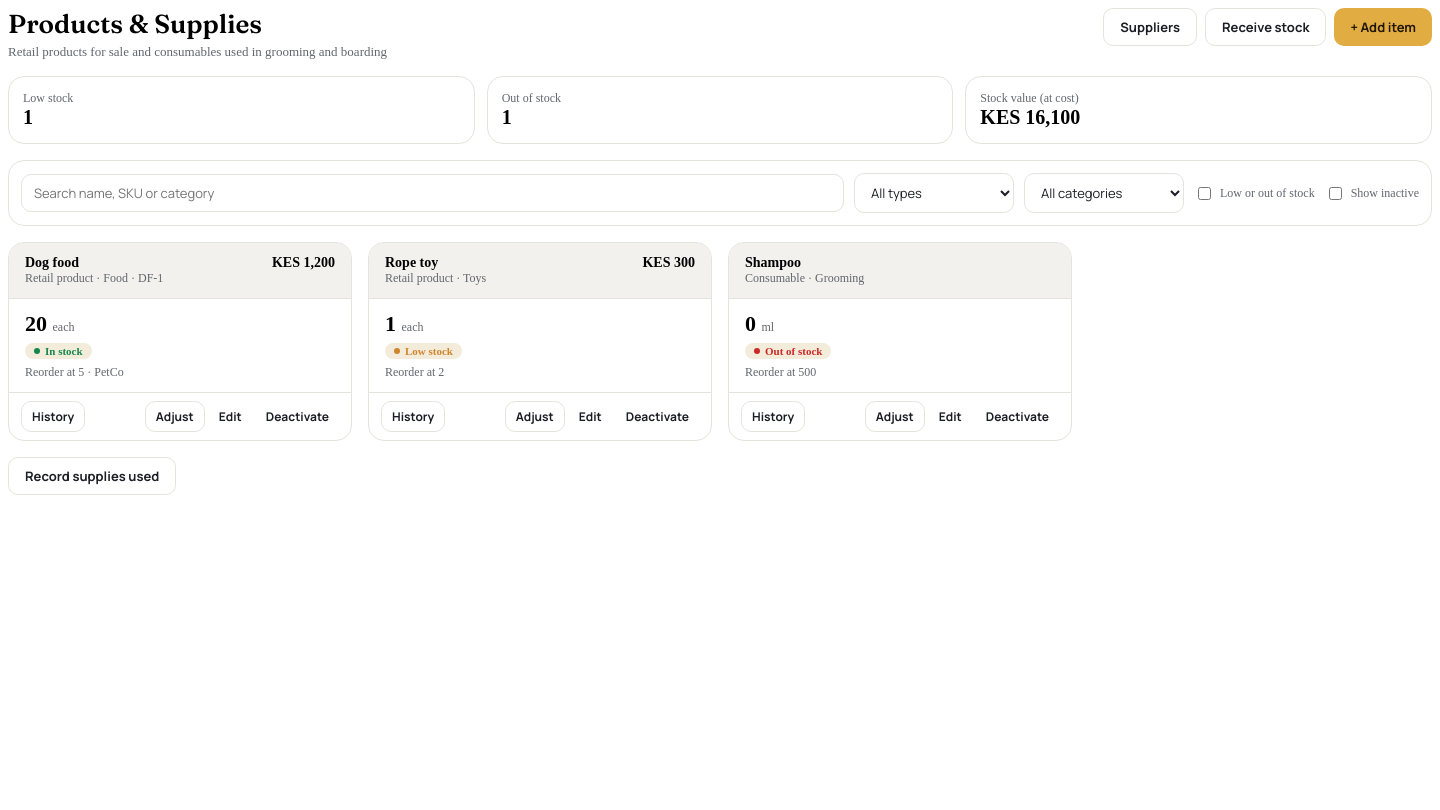
it: SuppliesPage › validates a new item and blocks duplicates before saving
The image size is (1440, 810).
Expected: the text "Dog food" is shown, [25,255,79,271]
Click the button "+ Add item" at (1383, 27), box [1334,8,1432,46]
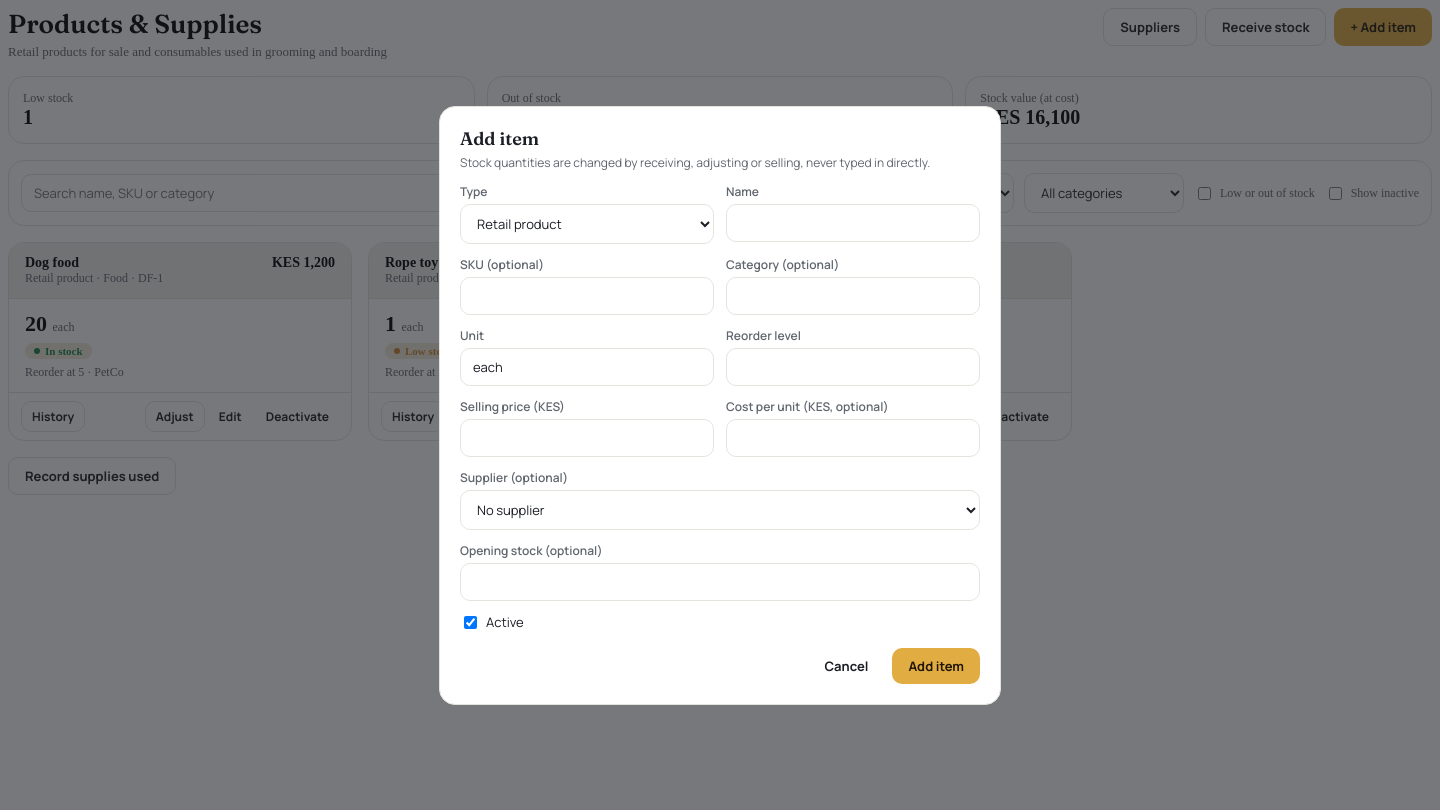
Type "Leash" into the field labelled "Name" at (853, 222), box [726,204,980,242]
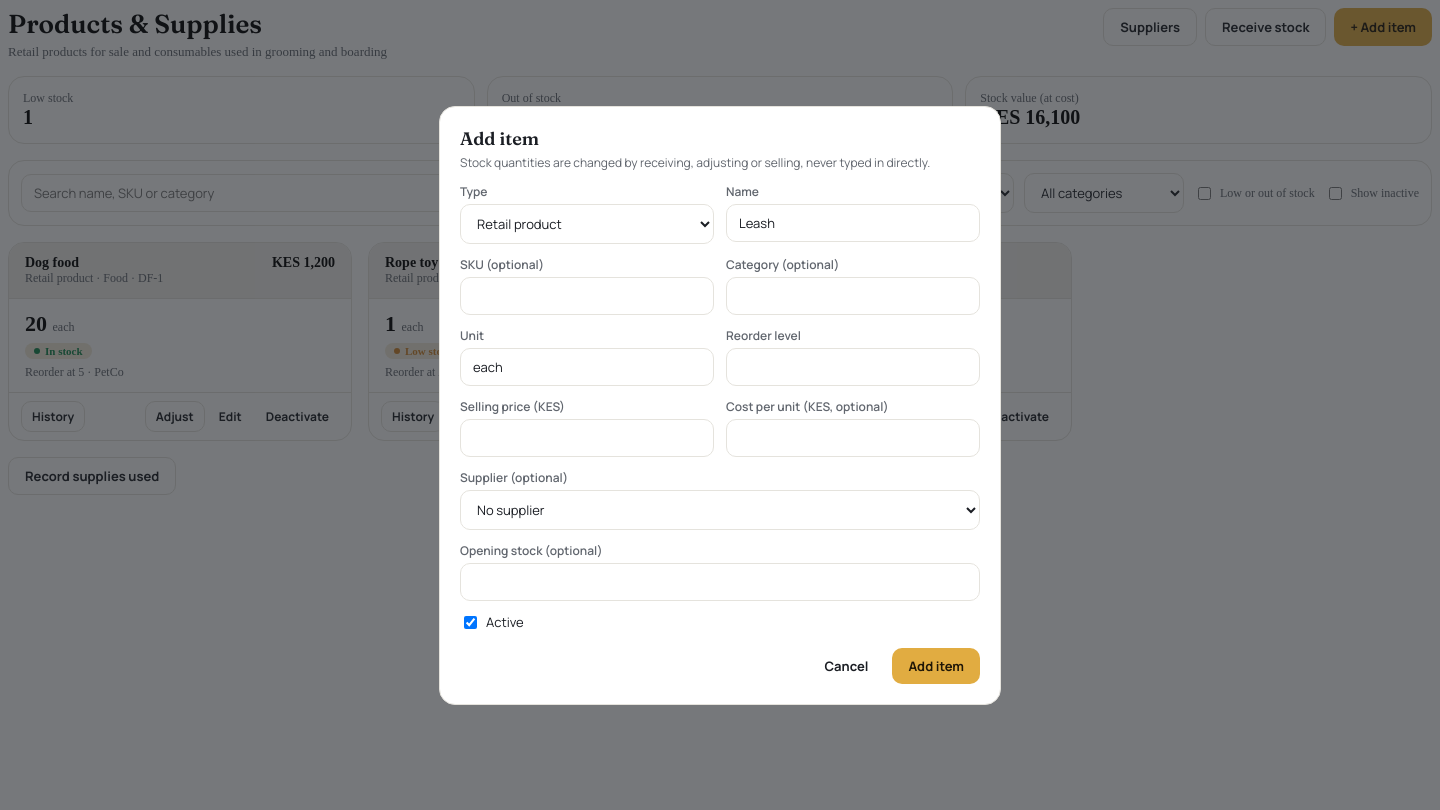
Click the button "Add item" at (936, 666), box [892,648,980,684]
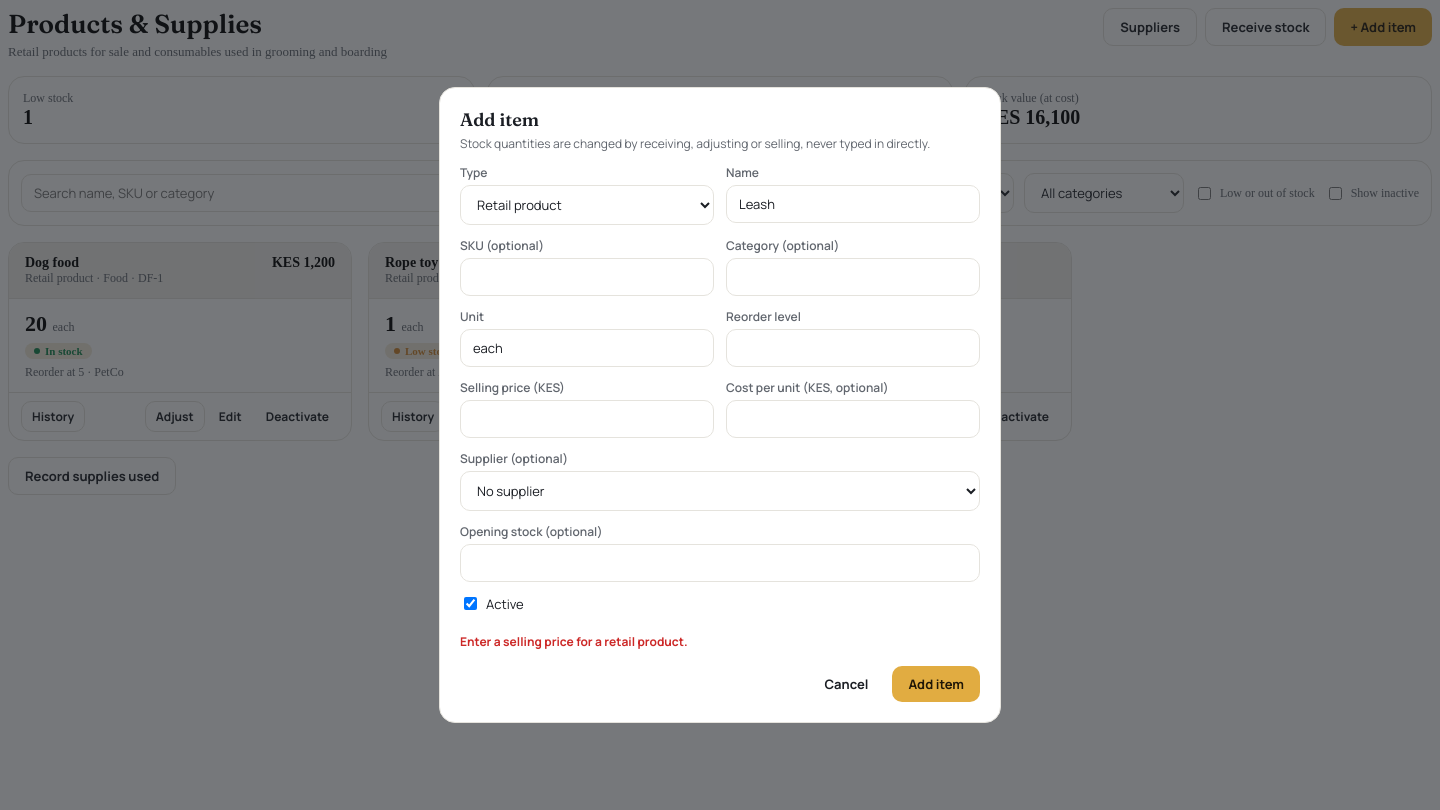
Expected: the text "Enter a selling price for a retail product." is shown, [460,633,688,650]
Replace the text in the field labelled "Name" with " dog FOOD " at (853, 204), box [726,185,980,223]
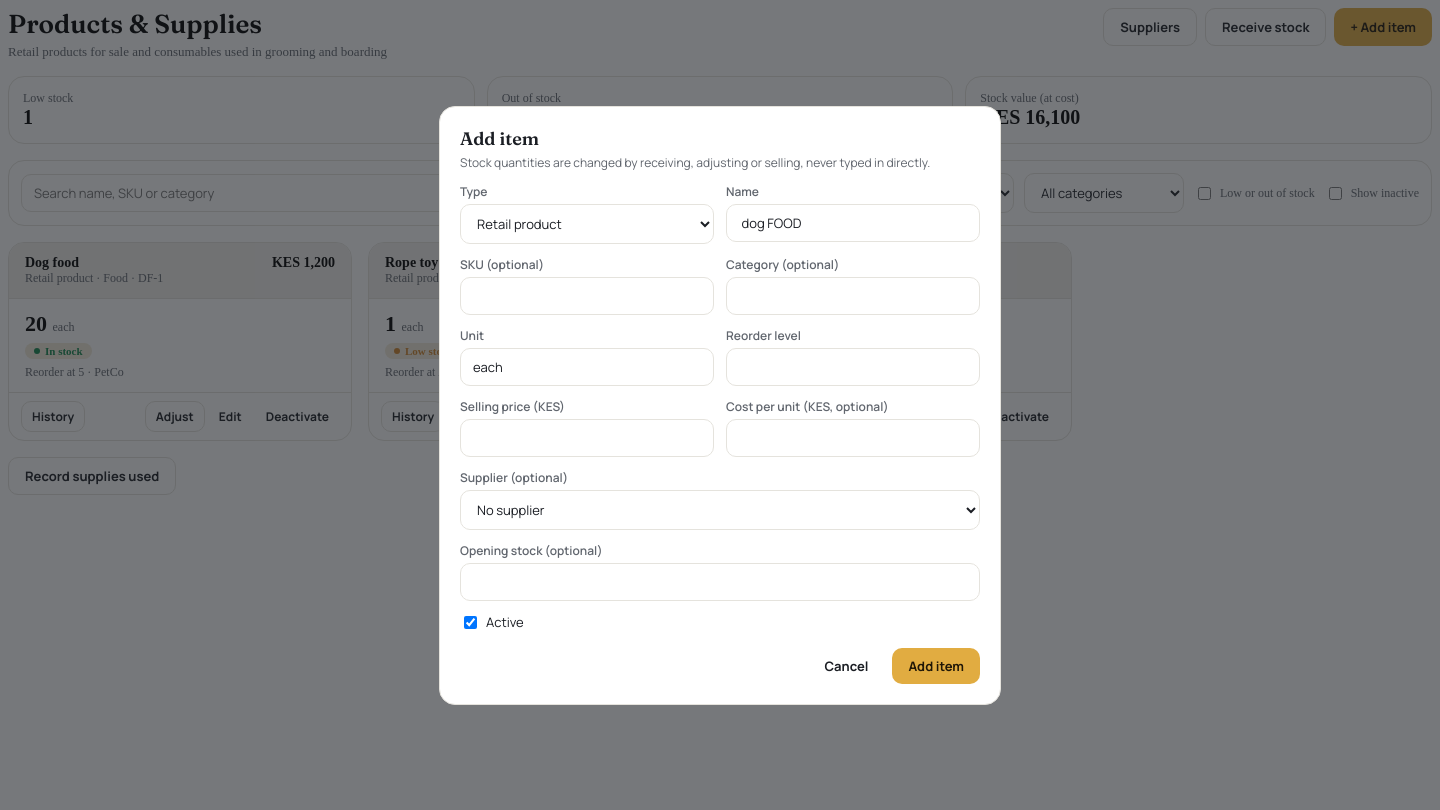
Type "100" into the field labelled "Selling price (KES)" at (587, 438), box [460,418,714,456]
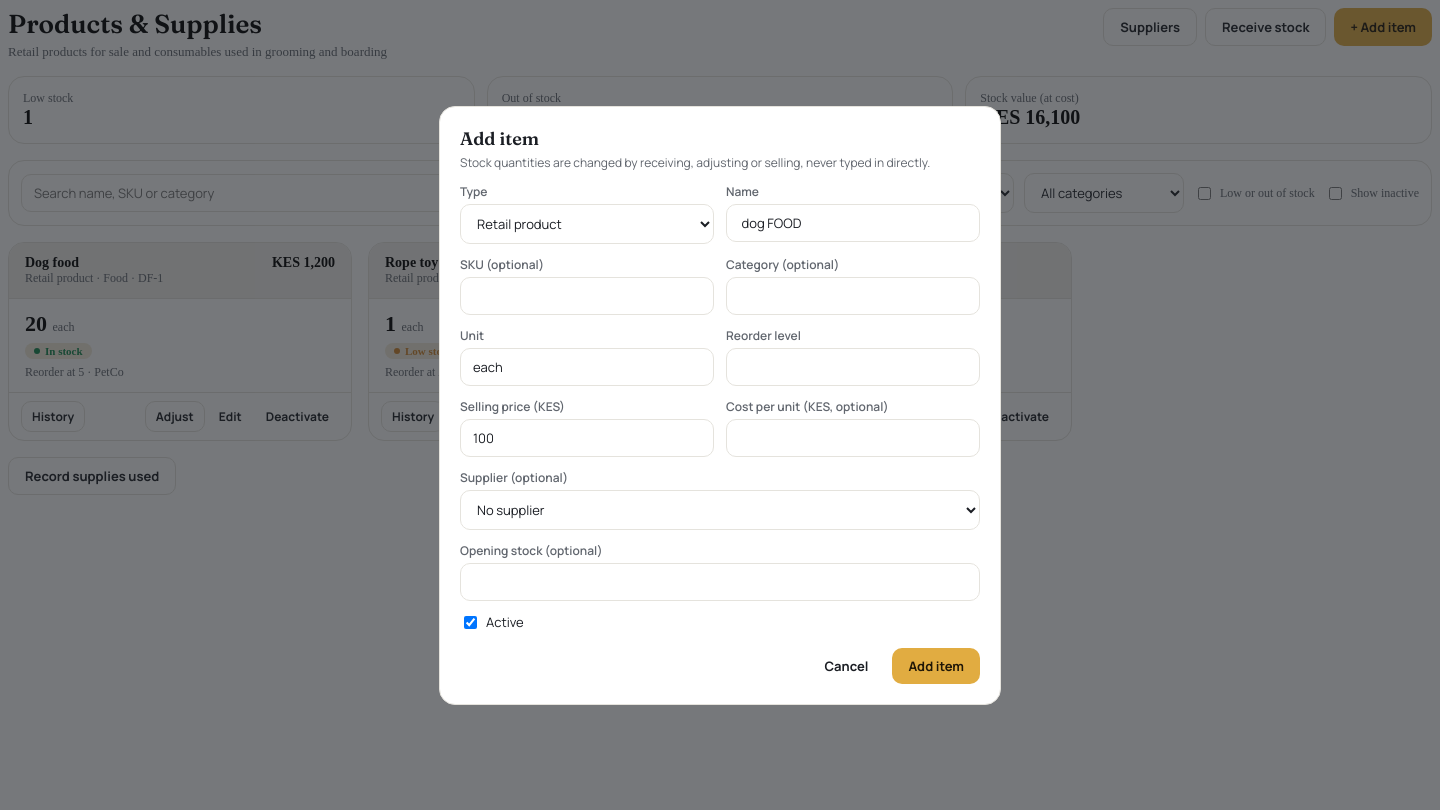
Click the button "Add item" at (936, 666), box [892,648,980,684]
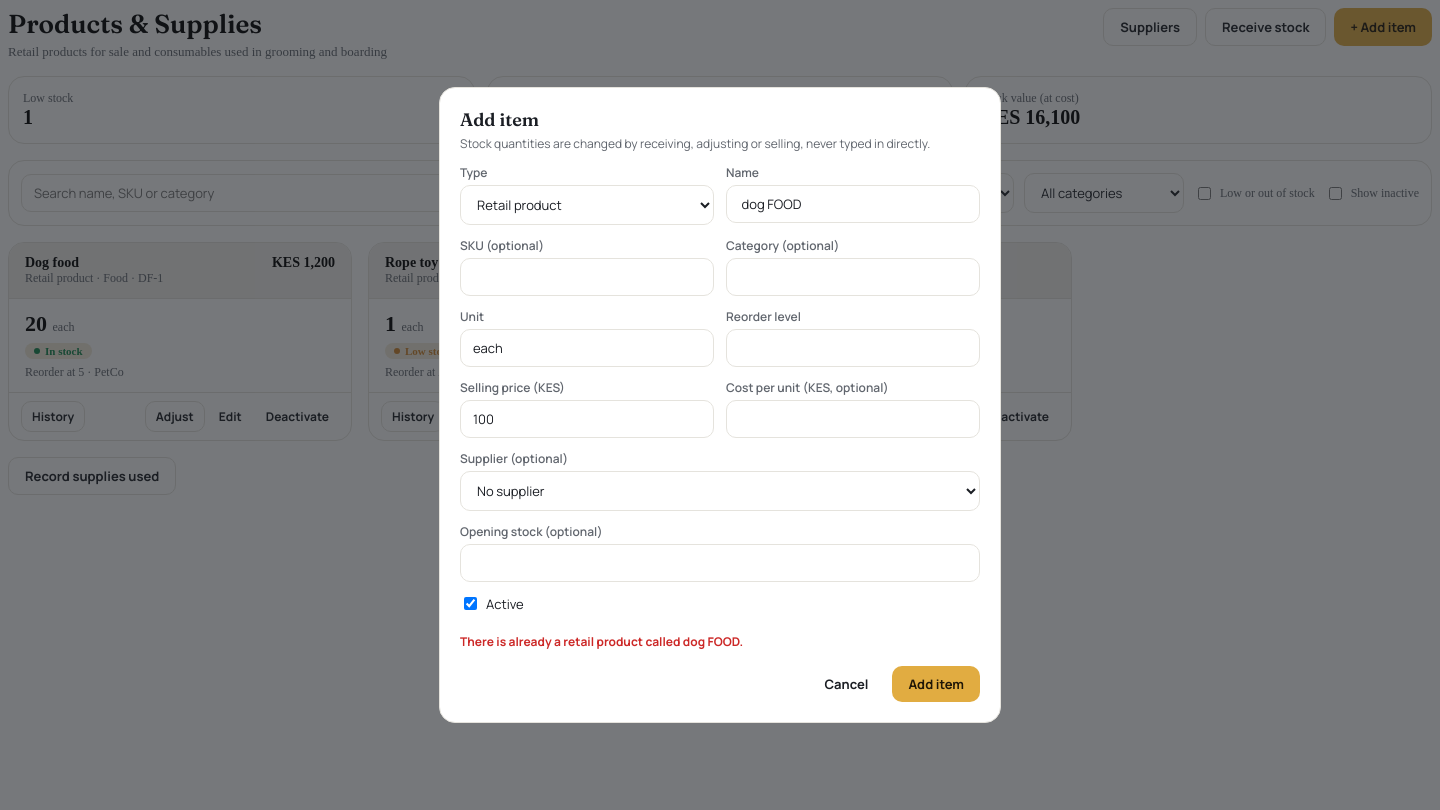
Expected: the text "There is already a retail product called dog FOOD." is shown, [460,633,743,650]
